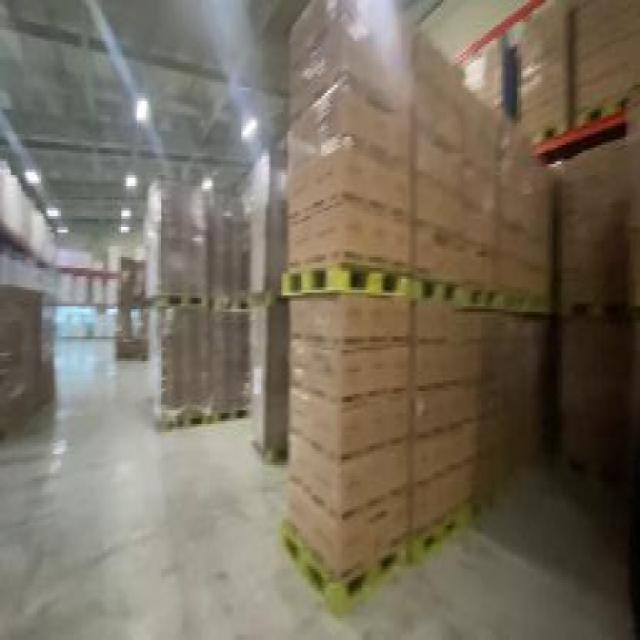box: (282, 8, 562, 574), (148, 156, 292, 448), (551, 131, 638, 536), (1, 268, 58, 454), (572, 3, 637, 126), (520, 14, 568, 140), (458, 35, 516, 128), (118, 252, 157, 358)
